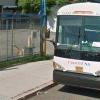Bus: (50, 2, 100, 93)
